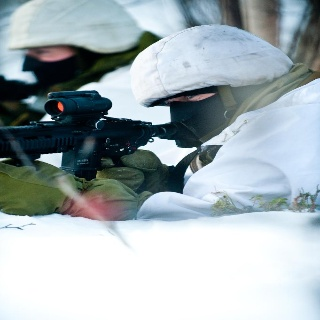rifle: (1, 86, 192, 183)
